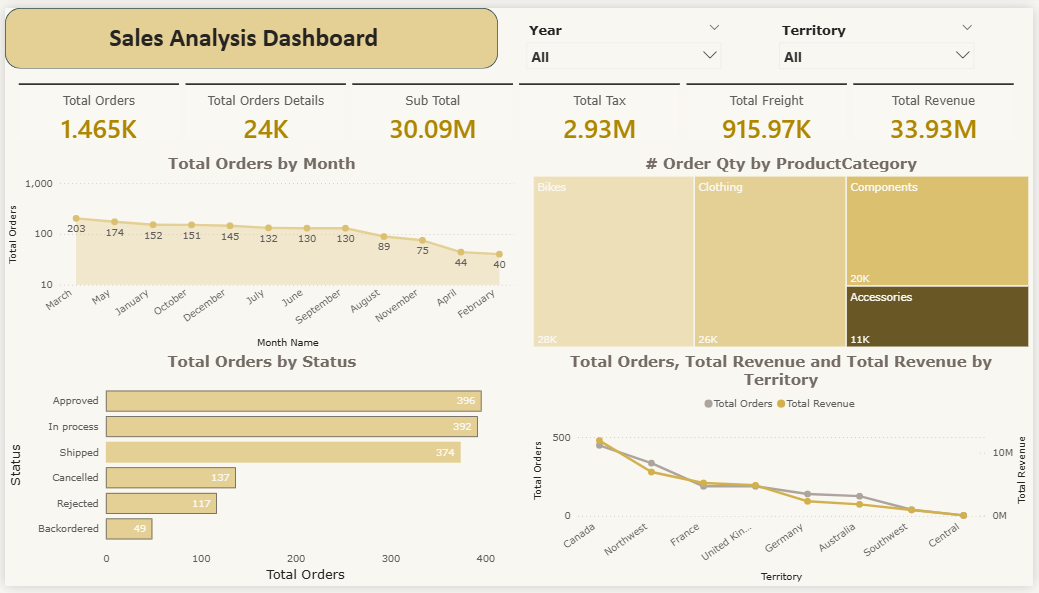

What the dashboard file says about the page in this screenshot:
{"tool":"powerbi","page":{"name":"project overview","canvas":[1280,720],"ordinal":0},"visuals":[{"type":"cardVisual","fields":{"Data":["Table.# Orders","Table.# Order Details","Table.Sub Total","Table.Total Tax","Table.Total Freight","Table.Total Due"]},"box":[0,76.6,1279.7,104.8],"z":0},{"type":"shape","box":[0,0,614.3,75.7],"z":1000},{"type":"textbox","box":[125.7,11.4,390,52.9],"z":2000},{"type":"stackedAreaChart","title":"Total Orders by Month ","fields":{"Y":["Table.# Orders"],"Category":["Dim_Dates.Month Name"]},"box":[0,181.4,640,247.1],"z":3000},{"type":"clusteredBarChart","title":"Total Orders by Status","fields":{"Y":["Table.# Orders"],"Category":["Dim_Status.Status"]},"box":[0,428.6,640,291.4],"z":4000},{"type":"treemap","fields":{"Group":["Dim_Products.ProductCategory Hierarchy.ProductCategory","Dim_Products.ProductCategory Hierarchy.ProductSubCategory","Dim_Products.ProductCategory Hierarchy.Product"],"Values":["Table.# Order Qty"]},"box":[652.9,181.4,627.1,245.7],"z":5000},{"type":"lineChart","fields":{"Category":["Dim_Territorys.Territory"],"Y2":["Table.Total Due"],"Y":["Table.# Orders"]},"box":[652.9,428.6,627.1,291.4],"z":6000},{"type":"slicer","fields":{"Values":["Dim_Dates.Year"]},"box":[640,11.4,262.9,74.3],"z":7000},{"type":"slicer","fields":{"Values":["Dim_Territorys.Territory"]},"box":[954.3,11.4,262.9,77.1],"z":8000}]}

Visuals, with their boxes in screenshot pixels (x1, y1, x2, y2), scaled from the page's 1280x720 canvas onto the 1039x593 screenshot:
cardVisual - Table.# Orders x Table.# Order Details: (left=0, top=63, right=1038, bottom=149)
shape: (left=0, top=0, right=499, bottom=62)
textbox: (left=102, top=9, right=419, bottom=53)
"Total Orders by Month " stackedAreaChart: (left=0, top=149, right=520, bottom=353)
"Total Orders by Status" clusteredBarChart: (left=0, top=353, right=520, bottom=592)
treemap - Dim_Products.ProductCategory Hierarchy.ProductCategory x Dim_Products.ProductCategory Hierarchy.ProductSubCategory: (left=530, top=149, right=1038, bottom=352)
lineChart - Dim_Territorys.Territory x Table.Total Due: (left=530, top=353, right=1038, bottom=592)
slicer - Dim_Dates.Year: (left=520, top=9, right=733, bottom=71)
slicer - Dim_Territorys.Territory: (left=775, top=9, right=988, bottom=73)
